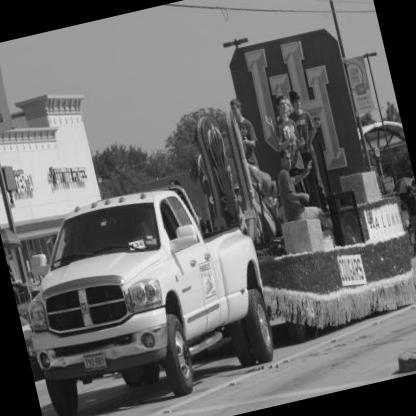truck: (1, 169, 314, 416)
